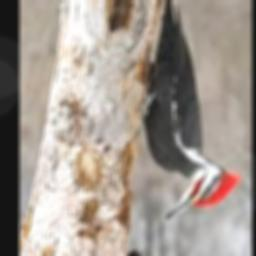Woodpecker: (142, 0, 241, 221)
